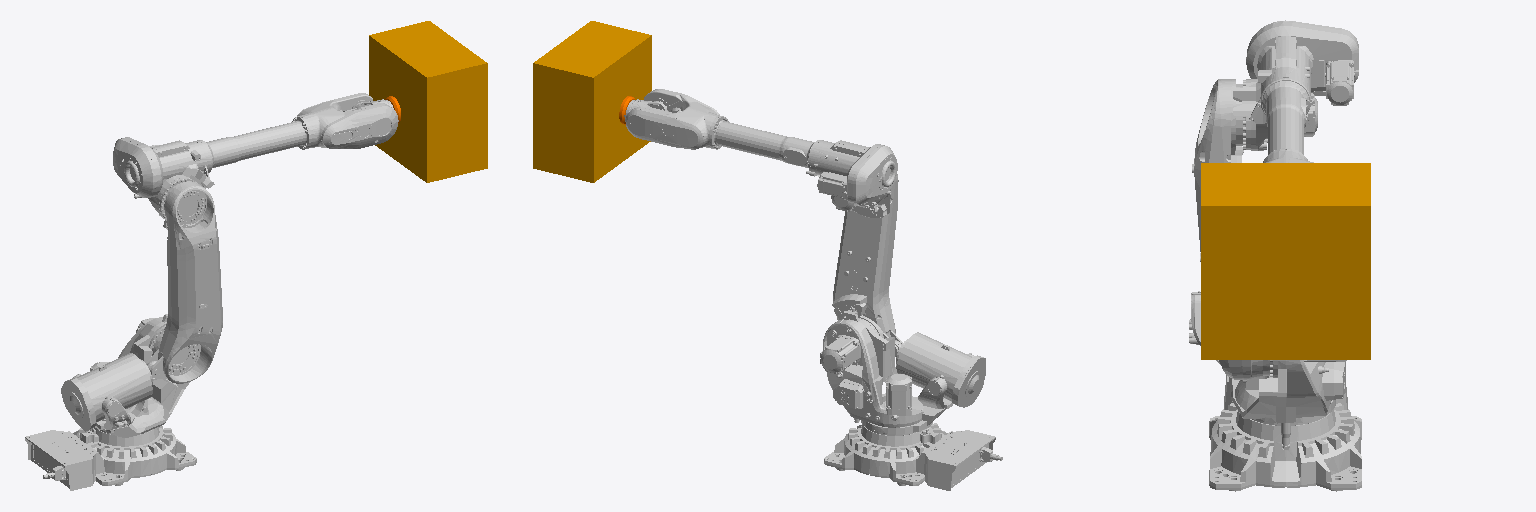
robot.urdf — abb_6730:
<?xml version="1.0" ?>
<!-- Generated using onshape-to-robot -->
<!-- Onshape https://cad.onshape.com/documents/10518ef8240a84595b64e5c3/w/a859a3c176b74eb8aea53e5a/e/57f69bf6113a41ef9e791ad3 -->
<robot name="abb_6730">
  <!-- Link irb6730_210kg_310_oc_00_base_cad -->
  <link name="irb6730_210kg_310_oc_00_base_cad">
    <inertial>
      <origin xyz="0 0 0" rpy="0 0 0"/>
      <mass value="0"/>
      <inertia ixx="0" ixy="0" ixz="0" iyy="0" iyz="0" izz="0"/>
    </inertial>
    <!-- Part irb6730_210kg_310_oc_00_base_cad -->
    <visual>
      <origin xyz="0 0 0" rpy="0 -0 0"/>
      <geometry>
        <mesh filename="package://abb_irb6730_support/meshes/irb6730_210kg_310_oc_00_base_cad.stl"/>
      </geometry>
      <material name="irb6730_210kg_310_oc_00_base_cad_material">
        <color rgba="0.843137 0.843137 0.843137 1.0"/>
      </material>
    </visual>
    <collision>
      <origin xyz="0 0 0" rpy="0 -0 0"/>
      <geometry>
        <mesh filename="package://abb_irb6730_support/meshes/irb6730_210kg_310_oc_00_base_cad.stl"/>
      </geometry>
    </collision>
  </link>
  <!-- Link irb6730_210kg_310_oc_00_link01_cad -->
  <link name="irb6730_210kg_310_oc_00_link01_cad">
    <inertial>
      <origin xyz="0 0 0" rpy="0 0 0"/>
      <mass value="0"/>
      <inertia ixx="0" ixy="0" ixz="0" iyy="0" iyz="0" izz="0"/>
    </inertial>
    <!-- Part irb6730_210kg_310_oc_00_link01_cad -->
    <visual>
      <origin xyz="3.47472e-17 6.60087e-18 0.374" rpy="3.14159 -1.29305e-15 0"/>
      <geometry>
        <mesh filename="package://abb_irb6730_support/meshes/irb6730_210kg_310_oc_00_link01_cad.stl"/>
      </geometry>
      <material name="irb6730_210kg_310_oc_00_link01_cad_material">
        <color rgba="0.843137 0.843137 0.843137 1.0"/>
      </material>
    </visual>
    <collision>
      <origin xyz="3.47472e-17 6.60087e-18 0.374" rpy="3.14159 -1.29305e-15 0"/>
      <geometry>
        <mesh filename="package://abb_irb6730_support/meshes/irb6730_210kg_310_oc_00_link01_cad.stl"/>
      </geometry>
    </collision>
  </link>
  <!-- Link irb6730_210kg_310_oc_00_link02_cad -->
  <link name="irb6730_210kg_310_oc_00_link02_cad">
    <inertial>
      <origin xyz="0 0 0" rpy="0 0 0"/>
      <mass value="0"/>
      <inertia ixx="0" ixy="0" ixz="0" iyy="0" iyz="0" izz="0"/>
    </inertial>
    <!-- Part irb6730_210kg_310_oc_00_link02_cad -->
    <visual>
      <origin xyz="-0.34 0.78 0.14" rpy="1.5708 -1.92718e-50 -6.65069e-46"/>
      <geometry>
        <mesh filename="package://abb_irb6730_support/meshes/irb6730_210kg_310_oc_00_link02_cad.stl"/>
      </geometry>
      <material name="irb6730_210kg_310_oc_00_link02_cad_material">
        <color rgba="0.843137 0.843137 0.843137 1.0"/>
      </material>
    </visual>
    <collision>
      <origin xyz="-0.34 0.78 0.14" rpy="1.5708 -1.92718e-50 -6.65069e-46"/>
      <geometry>
        <mesh filename="package://abb_irb6730_support/meshes/irb6730_210kg_310_oc_00_link02_cad.stl"/>
      </geometry>
    </collision>
  </link>
  <!-- Link irb6730_210kg_310_oc_00_link03_cad -->
  <link name="irb6730_210kg_310_oc_00_link03_cad">
    <inertial>
      <origin xyz="0 0 0" rpy="0 0 0"/>
      <mass value="0"/>
      <inertia ixx="0" ixy="0" ixz="0" iyy="0" iyz="0" izz="0"/>
    </inertial>
    <!-- Part irb6730_210kg_310_oc_00_link03_cad -->
    <visual>
      <origin xyz="-0.34 -1.95 -0.265" rpy="-1.5708 -5.02833e-16 -5.55112e-17"/>
      <geometry>
        <mesh filename="package://abb_irb6730_support/meshes/irb6730_210kg_310_oc_00_link03_cad.stl"/>
      </geometry>
      <material name="irb6730_210kg_310_oc_00_link03_cad_material">
        <color rgba="0.843137 0.843137 0.843137 1.0"/>
      </material>
    </visual>
    <collision>
      <origin xyz="-0.34 -1.95 -0.265" rpy="-1.5708 -5.02833e-16 -5.55112e-17"/>
      <geometry>
        <mesh filename="package://abb_irb6730_support/meshes/irb6730_210kg_310_oc_00_link03_cad.stl"/>
      </geometry>
    </collision>
  </link>
  <!-- Link irb6730_210kg_310_oc_00_link04_cad -->
  <link name="irb6730_210kg_310_oc_00_link04_cad">
    <inertial>
      <origin xyz="0 0 0" rpy="0 0 0"/>
      <mass value="0"/>
      <inertia ixx="0" ixy="0" ixz="0" iyy="0" iyz="0" izz="0"/>
    </inertial>
    <!-- Part irb6730_210kg_310_oc_00_link04_cad -->
    <visual>
      <origin xyz="1.63684e-15 2.15 0.627" rpy="1.5708 1.5708 0"/>
      <geometry>
        <mesh filename="package://abb_irb6730_support/meshes/irb6730_210kg_310_oc_00_link04_cad.stl"/>
      </geometry>
      <material name="irb6730_210kg_310_oc_00_link04_cad_material">
        <color rgba="0.843137 0.843137 0.843137 1.0"/>
      </material>
    </visual>
    <collision>
      <origin xyz="1.63684e-15 2.15 0.627" rpy="1.5708 1.5708 0"/>
      <geometry>
        <mesh filename="package://abb_irb6730_support/meshes/irb6730_210kg_310_oc_00_link04_cad.stl"/>
      </geometry>
    </collision>
  </link>
  <!-- Link irb6730_210kg_310_oc_00_link05_cad -->
  <link name="irb6730_210kg_310_oc_00_link05_cad">
    <inertial>
      <origin xyz="0 0 0" rpy="0 0 0"/>
      <mass value="0"/>
      <inertia ixx="0" ixy="0" ixz="0" iyy="0" iyz="0" izz="0"/>
    </inertial>
    <!-- Part irb6730_210kg_310_oc_00_link05_cad -->
    <visual>
      <origin xyz="-1.9325 2.15 -0.095" rpy="1.5708 4.63566e-16 -1.66533e-16"/>
      <geometry>
        <mesh filename="package://abb_irb6730_support/meshes/irb6730_210kg_310_oc_00_link05_cad.stl"/>
      </geometry>
      <material name="irb6730_210kg_310_oc_00_link05_cad_material">
        <color rgba="0.843137 0.843137 0.843137 1.0"/>
      </material>
    </visual>
    <collision>
      <origin xyz="-1.9325 2.15 -0.095" rpy="1.5708 4.63566e-16 -1.66533e-16"/>
      <geometry>
        <mesh filename="package://abb_irb6730_support/meshes/irb6730_210kg_310_oc_00_link05_cad.stl"/>
      </geometry>
    </collision>
  </link>
  <!-- Link irb6730_210kg_310_oc_00_link06_cad -->
  <link name="irb6730_210kg_310_oc_00_link06_cad">
    <inertial>
      <origin xyz="0 0 0" rpy="0 0 0"/>
      <mass value="0"/>
      <inertia ixx="0" ixy="0" ixz="0" iyy="0" iyz="0" izz="0"/>
    </inertial>
    <!-- Part irb6730_210kg_310_oc_00_link06_cad -->
    <visual>
      <origin xyz="2.80769e-16 2.15 2.0975" rpy="1.5708 1.5708 0"/>
      <geometry>
        <mesh filename="package://abb_irb6730_support/meshes/irb6730_210kg_310_oc_00_link06_cad.stl"/>
      </geometry>
      <material name="irb6730_210kg_310_oc_00_link06_cad_material">
        <color rgba="1 0.501961 0 1.0"/>
      </material>
    </visual>
    <collision>
      <origin xyz="2.80769e-16 2.15 2.0975" rpy="1.5708 1.5708 0"/>
      <geometry>
        <mesh filename="package://abb_irb6730_support/meshes/irb6730_210kg_310_oc_00_link06_cad.stl"/>
      </geometry>
    </collision>
  </link>
  <!-- Joint from irb6730_210kg_310_oc_00_link05_cad to irb6730_210kg_310_oc_00_link06_cad -->
  <joint name="joint_6" type="revolute">
    <origin xyz="0.165 8.88178e-16 -0.095" rpy="-1.66533e-16 -1.5708 0"/>
    <parent link="irb6730_210kg_310_oc_00_link05_cad"/>
    <child link="irb6730_210kg_310_oc_00_link06_cad"/>
    <axis xyz="0 0 1"/>
    <limit effort="10" velocity="10" lower="-3.14159" upper="3.14159"/>
  </joint>
  <!-- Joint from irb6730_210kg_310_oc_00_link04_cad to irb6730_210kg_310_oc_00_link05_cad -->
  <joint name="joint_5" type="revolute">
    <origin xyz="0.095 -4.44089e-16 -1.3055" rpy="7.44661e-16 1.5708 0"/>
    <parent link="irb6730_210kg_310_oc_00_link04_cad"/>
    <child link="irb6730_210kg_310_oc_00_link05_cad"/>
    <axis xyz="0 0 1"/>
    <limit effort="10" velocity="10" lower="-2.26893" upper="2.26893"/>
  </joint>
  <!-- Joint from irb6730_210kg_310_oc_00_link03_cad to irb6730_210kg_310_oc_00_link04_cad -->
  <joint name="joint_4" type="revolute">
    <origin xyz="0.287 0.2 -0.265" rpy="-3.14159 1.5708 0"/>
    <parent link="irb6730_210kg_310_oc_00_link03_cad"/>
    <child link="irb6730_210kg_310_oc_00_link04_cad"/>
    <axis xyz="0 0 1"/>
    <limit effort="10" velocity="10" lower="-3.14159" upper="3.14159"/>
  </joint>
  <!-- Joint from irb6730_210kg_310_oc_00_link02_cad to irb6730_210kg_310_oc_00_link03_cad -->
  <joint name="joint_3" type="revolute">
    <origin xyz="-1.11022e-16 -1.17 -0.125" rpy="3.14159 -1.92718e-50 -6.65069e-46"/>
    <parent link="irb6730_210kg_310_oc_00_link02_cad"/>
    <child link="irb6730_210kg_310_oc_00_link03_cad"/>
    <axis xyz="0 0 1"/>
    <limit effort="10" velocity="10" lower="-1.22173" upper="3.14159"/>
  </joint>
  <!-- Joint from irb6730_210kg_310_oc_00_link01_cad to irb6730_210kg_310_oc_00_link02_cad -->
  <joint name="joint_2" type="revolute">
    <origin xyz="0.34 0.14 -0.406" rpy="1.5708 -1.29305e-15 -1.22593e-15"/>
    <parent link="irb6730_210kg_310_oc_00_link01_cad"/>
    <child link="irb6730_210kg_310_oc_00_link02_cad"/>
    <axis xyz="0 0 1"/>
    <limit effort="10" velocity="10" lower="-1.13446" upper="1.39626"/>
  </joint>
  <!-- Joint from irb6730_210kg_310_oc_00_base_cad to irb6730_210kg_310_oc_00_link01_cad -->
  <joint name="joint_1" type="revolute">
    <origin xyz="-5.18347e-16 6.60087e-18 0.374" rpy="-3.14159 -1.29305e-15 -9.55519e-62"/>
    <parent link="irb6730_210kg_310_oc_00_base_cad"/>
    <child link="irb6730_210kg_310_oc_00_link01_cad"/>
    <axis xyz="0 0 1"/>
    <limit effort="10" velocity="10" lower="-2.96706" upper="2.96706"/>
  </joint>

  <link name="tool0"/>


  <joint name="link_6-tool0" type="fixed">
    <child link="tool0"/>
    <origin rpy="0 3.14159265359 -0.0" xyz="0.0 0.0 -0.05"/>
    <parent link="irb6730_210kg_310_oc_00_link06_cad"/>
  </joint>



    <!-- <link name="tool_small">
      <collision>
        <geometry>
          <box size="0.4 0.4 0.38"/>
        </geometry>
        <origin rpy="0 0 0" xyz="0 0 -0.19"/>
      </collision>
      <visual>
        <geometry>
          <box size="0.4 0.4 0.38"/>
        </geometry>
        <origin rpy="0 0 0" xyz="0 0 -0.19"/>
      </visual>
    </link>

    <joint name="tool0-tool_small" type="fixed">
      <child link="tool_small"/>
      <origin rpy="0 0 0" xyz="0.0 0.0 0.4"/>
      <parent link="tool0"/>
    </joint> -->


    <link name="tool_mid">
      <collision>
        <geometry>
          <box size="0.8 0.8 0.48"/>
        </geometry>
        <origin rpy="0 0 0" xyz="0 0 -0.245"/>
      </collision>
      <visual>
        <geometry>
          <box size="0.8 0.8 0.48"/>
        </geometry>
        <origin rpy="0 0 0" xyz="0 0 -0.245"/>
      </visual>
    </link>

    <joint name="tool0-tool_mid" type="fixed">
      <child link="tool_mid"/>
      <origin rpy="0 0 0" xyz="0.0 0.0 0.5"/>
      <parent link="tool0"/>
    </joint>


  <!-- <link name="tool_large">
    <collision>
      <geometry>
        <box size="1.2 1.6 0.58"/>
      </geometry>
      <origin rpy="0 0 0" xyz="0 0 -0.29"/>
    </collision>
    <visual>
      <geometry>
        <box size="1.2 1.6 0.58"/>
      </geometry>
      <origin rpy="0 0 0" xyz="0 0 -0.29"/>
    </visual>
  </link>

  <joint name="tool0-tool_large" type="fixed">
    <child link="tool_large"/>
    <origin rpy="0 0 0" xyz="0.0 0.0 0.6"/>
    <parent link="tool0"/>
  </joint> -->


</robot>

--- Render facts (derived) ---
The picture shows the robot from 3 angles, left to right: view 1: azimuth 30°, elevation 25°; view 2: azimuth 150°, elevation 25°; view 3: azimuth 270°, elevation 25°; orthographic projection.
Model abb_6730 with 9 links and 8 joints (6 revolute, 2 fixed), rooted at irb6730_210kg_310_oc_00_base_cad, posed every joint at zero.
Visible links, largest first — view 1: tool_mid, irb6730_210kg_310_oc_00_link02_cad, irb6730_210kg_310_oc_00_link01_cad, irb6730_210kg_310_oc_00_base_cad, irb6730_210kg_310_oc_00_link04_cad, irb6730_210kg_310_oc_00_link03_cad; view 2: tool_mid, irb6730_210kg_310_oc_00_link01_cad, irb6730_210kg_310_oc_00_base_cad, irb6730_210kg_310_oc_00_link02_cad, irb6730_210kg_310_oc_00_link04_cad, irb6730_210kg_310_oc_00_link03_cad; view 3: tool_mid, irb6730_210kg_310_oc_00_base_cad, irb6730_210kg_310_oc_00_link03_cad, irb6730_210kg_310_oc_00_link01_cad, irb6730_210kg_310_oc_00_link02_cad, irb6730_210kg_310_oc_00_link04_cad.
Boxes of the visible links, x1,y1,x2,y2 form: tool_mid: (369, 21, 487, 182); irb6730_210kg_310_oc_00_link02_cad: (146, 181, 222, 383); irb6730_210kg_310_oc_00_link01_cad: (61, 314, 189, 437); irb6730_210kg_310_oc_00_base_cad: (25, 426, 196, 490); irb6730_210kg_310_oc_00_link04_cad: (206, 93, 398, 167); irb6730_210kg_310_oc_00_link03_cad: (113, 137, 214, 229); tool_mid: (533, 21, 651, 182); irb6730_210kg_310_oc_00_link01_cad: (820, 308, 985, 434); irb6730_210kg_310_oc_00_base_cad: (824, 423, 1002, 490); irb6730_210kg_310_oc_00_link02_cad: (832, 174, 902, 356); irb6730_210kg_310_oc_00_link04_cad: (625, 89, 814, 167); irb6730_210kg_310_oc_00_link03_cad: (806, 140, 897, 213); tool_mid: (1201, 163, 1370, 359); irb6730_210kg_310_oc_00_base_cad: (1209, 375, 1361, 491); irb6730_210kg_310_oc_00_link03_cad: (1233, 20, 1358, 150); irb6730_210kg_310_oc_00_link01_cad: (1189, 291, 1346, 446); irb6730_210kg_310_oc_00_link02_cad: (1192, 79, 1262, 379); irb6730_210kg_310_oc_00_link04_cad: (1262, 81, 1313, 162).
Bounding box of the posed robot: 3.39 × 0.856 × 2.55 m (x, y, z).
Meshes: 7 distinct files referenced, 7 mesh visuals loaded (7 binary STL).
